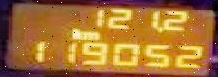-: (153, 25, 162, 31)
0: (108, 41, 137, 66)
1: (28, 37, 46, 62), (59, 40, 75, 64), (90, 6, 104, 27), (144, 7, 157, 28)
2: (173, 42, 202, 68), (106, 7, 133, 28), (162, 9, 188, 30)
5: (140, 42, 169, 66)
9: (77, 41, 106, 65)
X: (80, 30, 98, 40), (69, 26, 80, 38)
